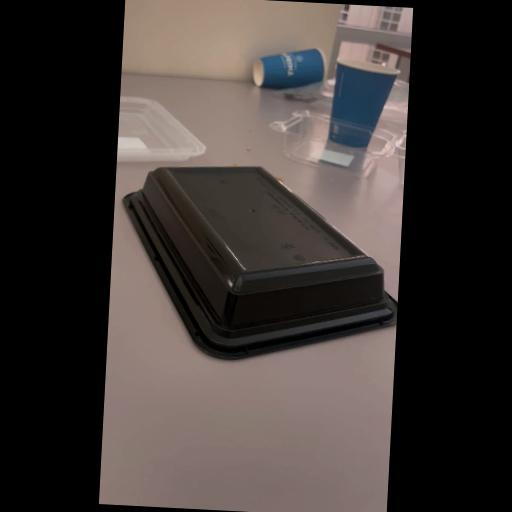lp_paper_cup: (329, 58, 399, 146), (253, 46, 327, 92)
rigid_plastic_container: (116, 160, 401, 362)
rigid_plastic_lid: (269, 108, 401, 180), (118, 96, 210, 168)
